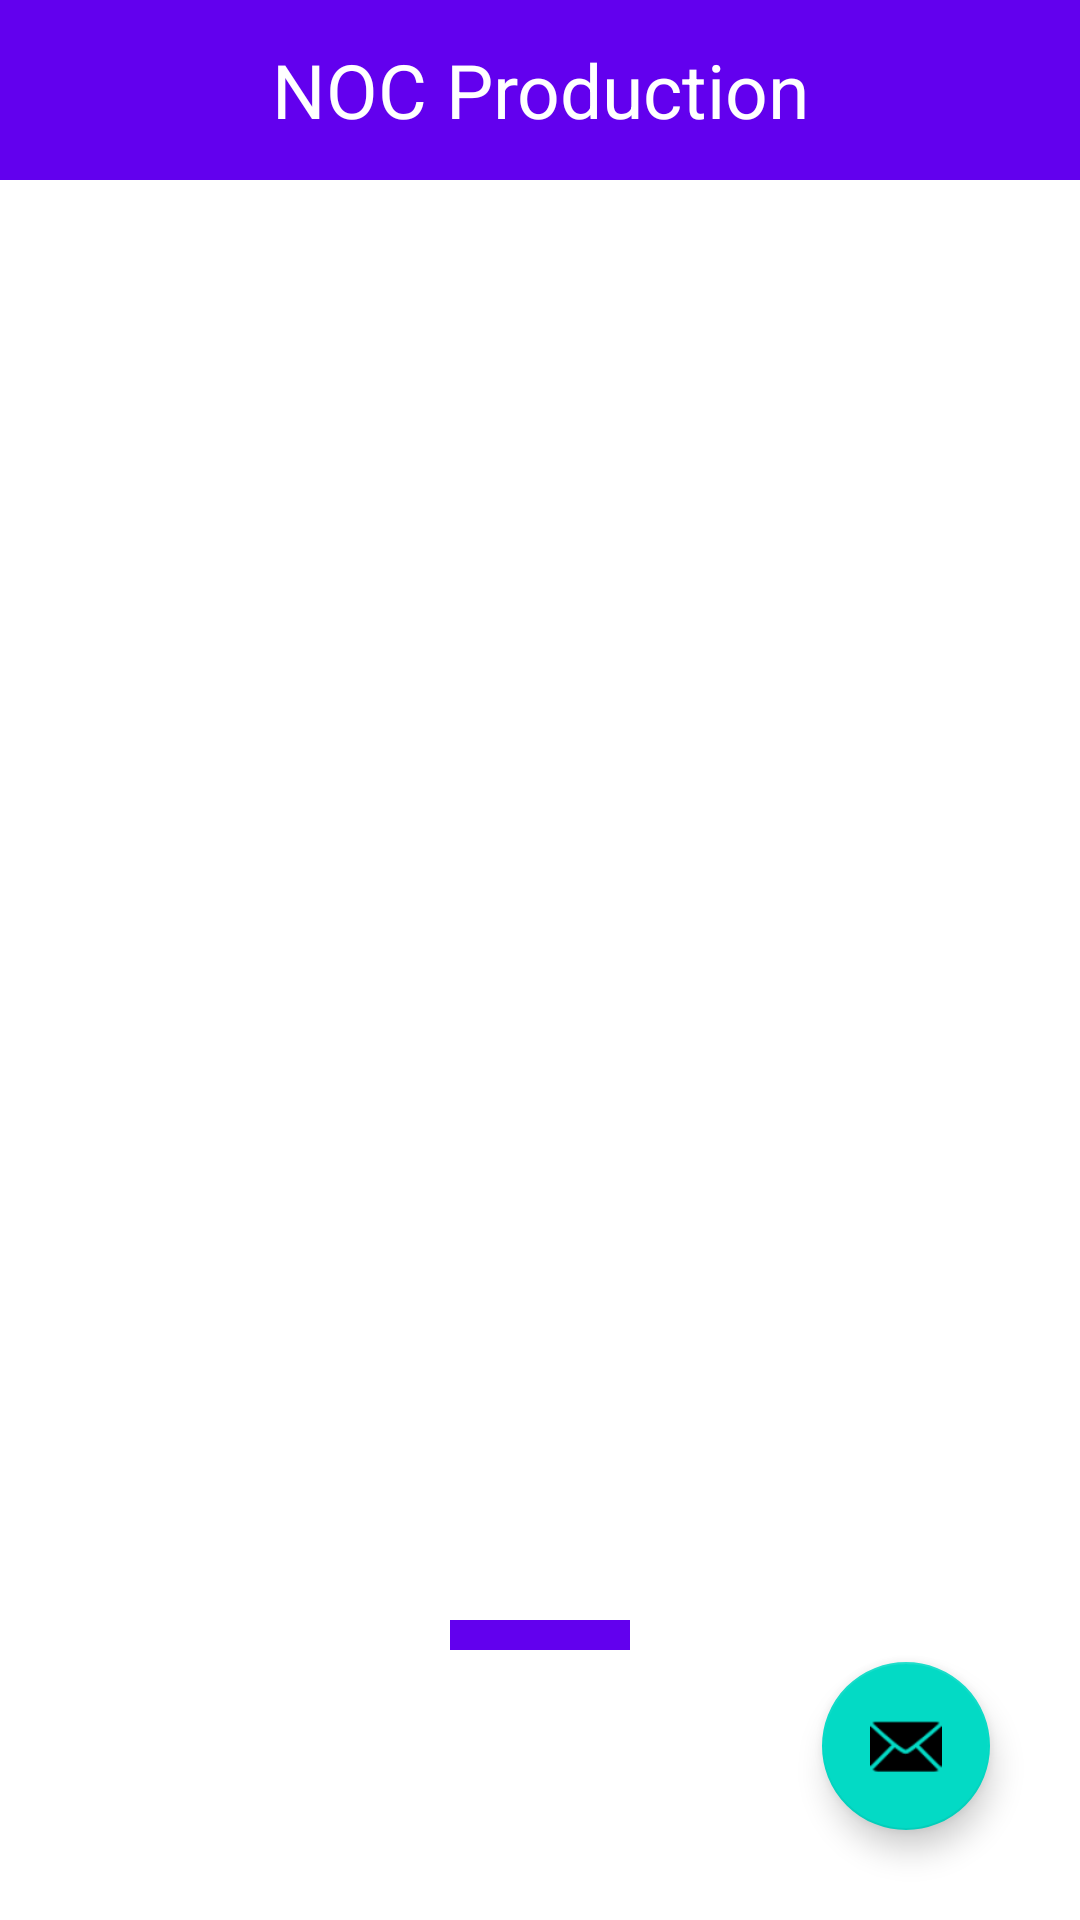

Screen size 1080px×1920px. Icon name, then its center in pixels as [x,y]:
email: [906,1746]
